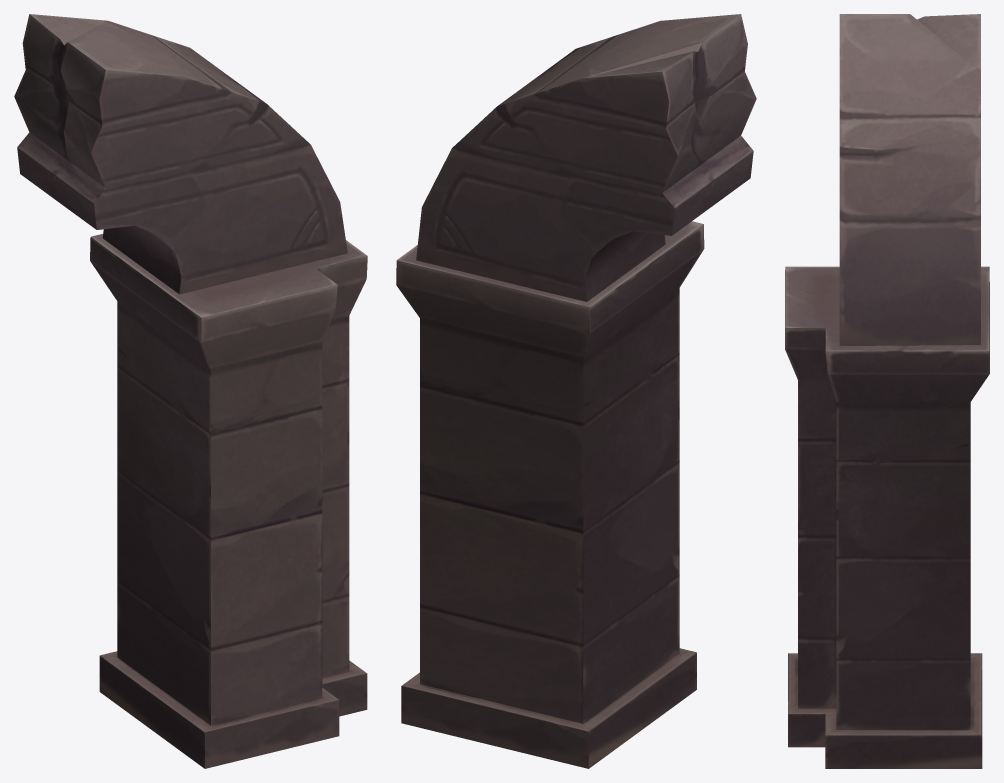
Rendered from Boss_14.FBX.
3 views of the same model, side by side, from view 1: azimuth 30°, elevation 25°; view 2: azimuth 150°, elevation 25°; view 3: azimuth 270°, elevation 25° (orthographic). The views are drawn at different scales.
Parts seen in each view (by area): view 1: Boss_14; view 2: Boss_14; view 3: Boss_14.
Boxes of the visible parts, x1,y1,x2,y2 form: Boss_14: [14, 14, 367, 768]; Boss_14: [396, 14, 756, 768]; Boss_14: [785, 14, 989, 768].
Size of the model in its own units: 3.49 by 8.62 by 2.5.
